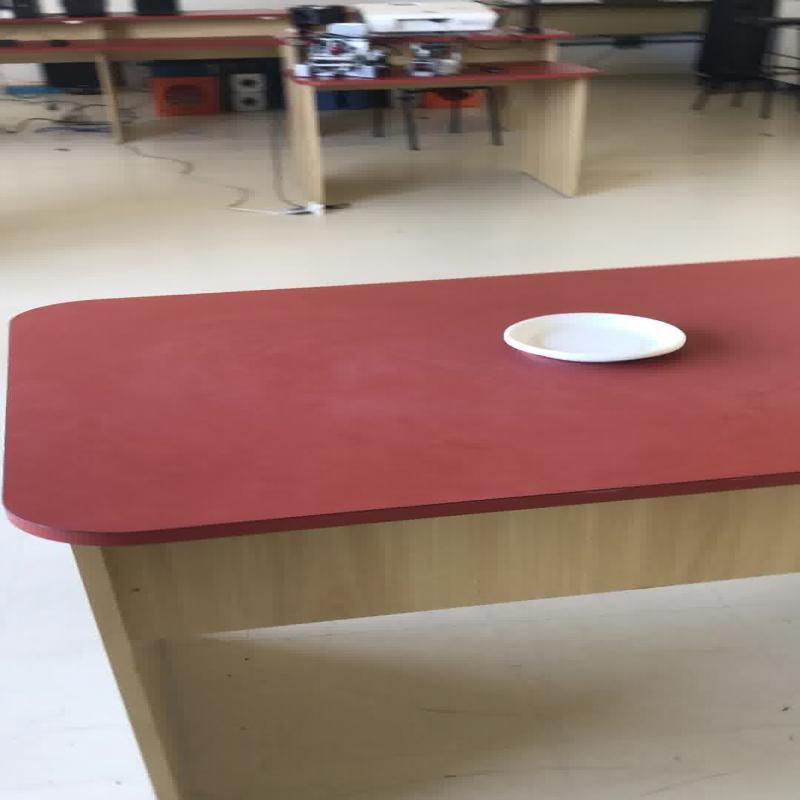plate: (501, 311, 686, 362)
